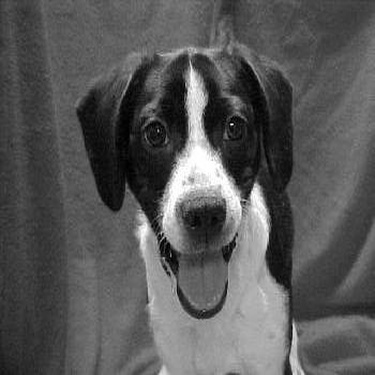dog: (64, 34, 307, 371)
